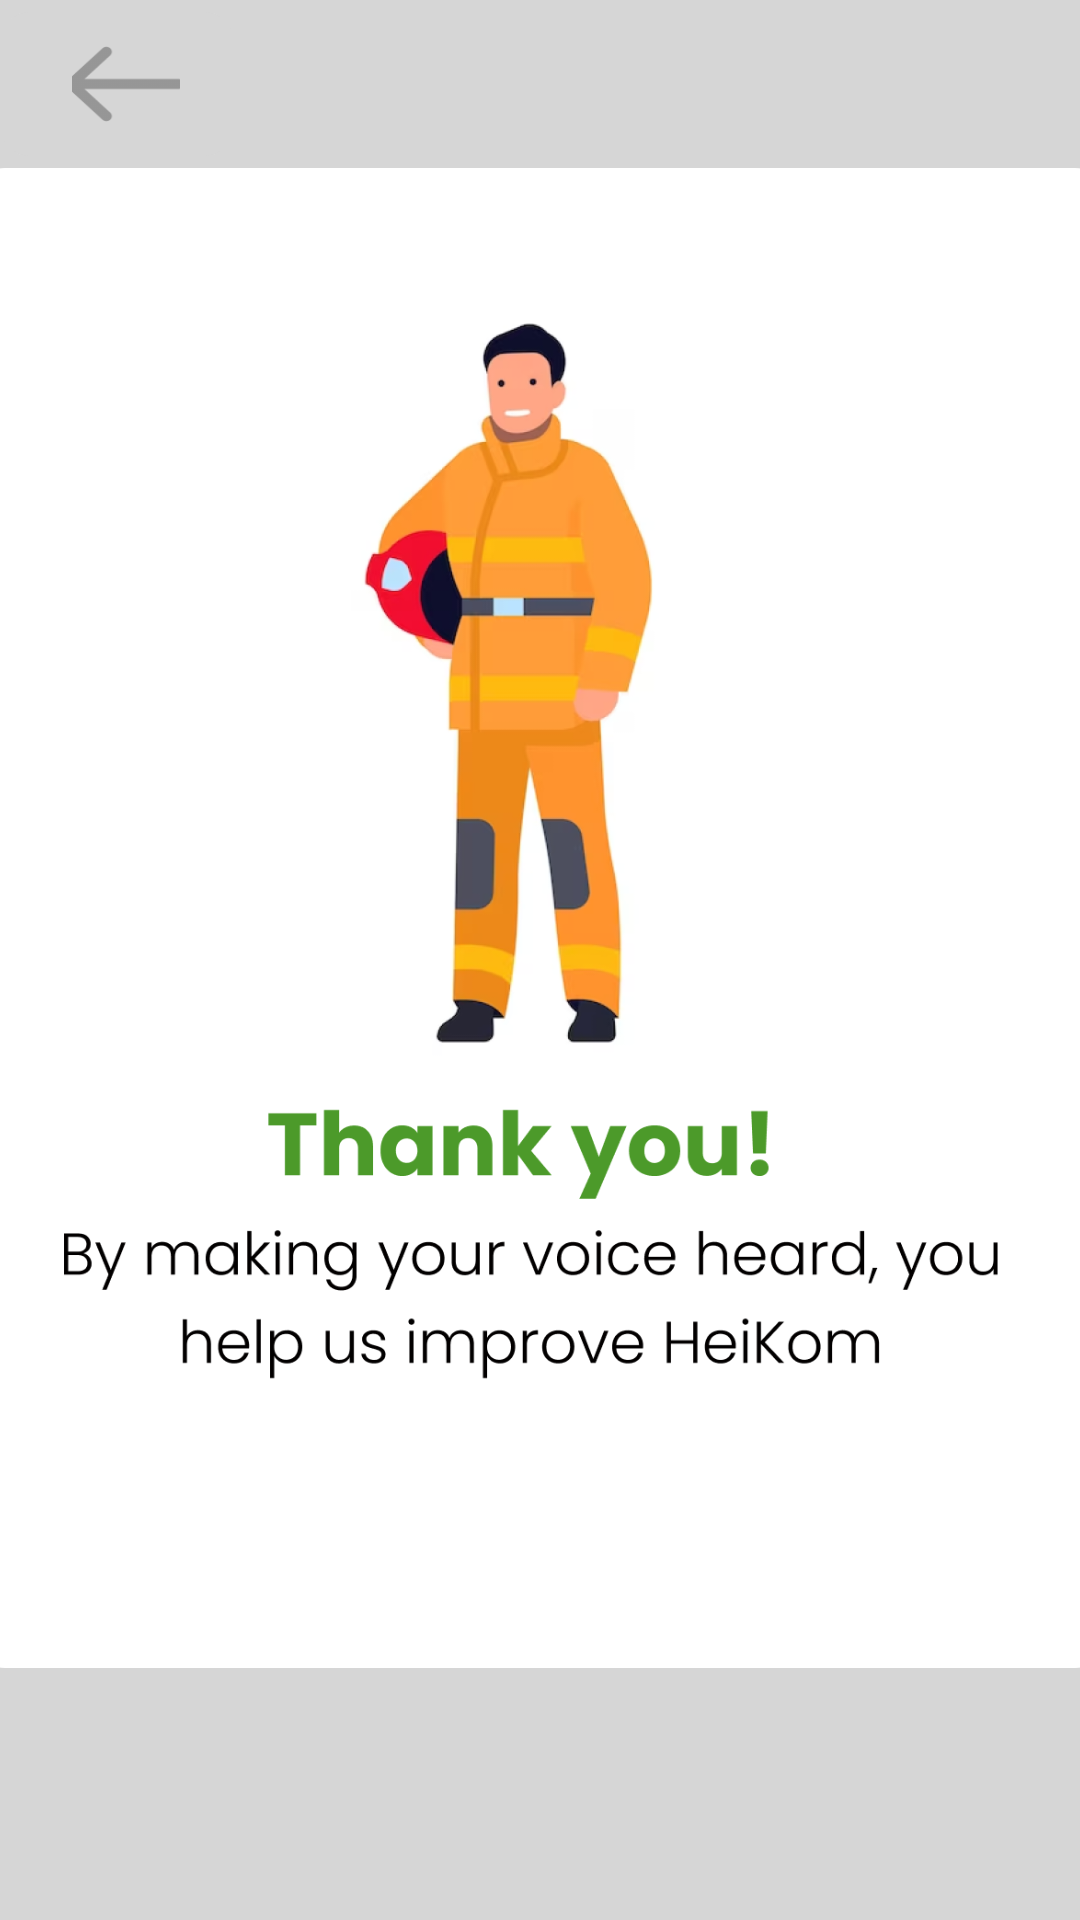

Icon bounding boxes for this 1080px x 1920px phone screenshot, format (left=x1, top=y1, right=x2, bottom=y2):
backarrow: (left=72, top=47, right=180, bottom=121)
